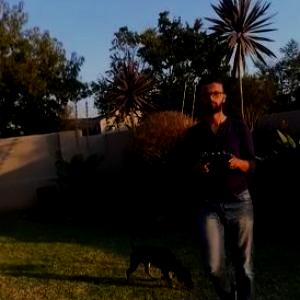follow: (183, 73, 260, 299)
null: (124, 228, 198, 290)
